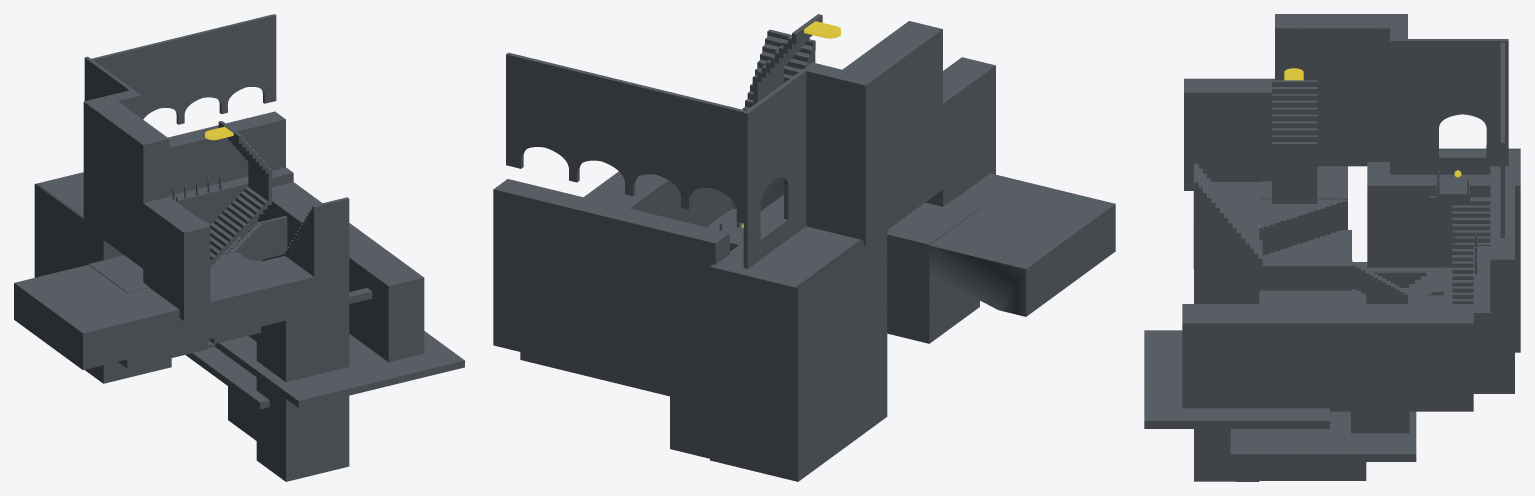
Rendered from relatibity_bake.fbx.
The picture shows the model from 3 angles, left to right: view 1: azimuth 30°, elevation 25°; view 2: azimuth 150°, elevation 25°; view 3: azimuth 270°, elevation 25°; orthographic projection. The views are drawn at different scales.
Parts seen in each view (by area): view 1: Cube; view 2: Cube; view 3: Cube.
Boxes of the visible parts, bbox=[...] form: Cube: bbox=[14, 14, 464, 481]; Cube: bbox=[493, 14, 1115, 481]; Cube: bbox=[1144, 14, 1520, 481].
Size of the model in its own units: 10835 by 9686 by 8805.
2 materials, 1 textured.
